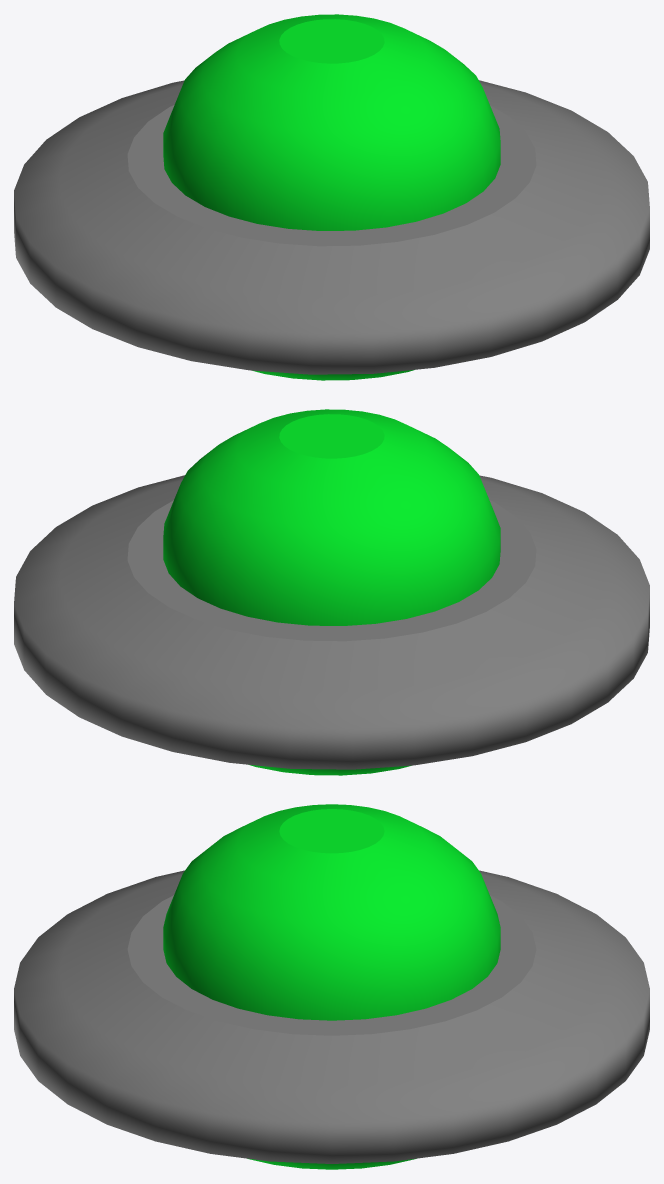
Rendered from UFOblend.fbx_Collection.fbx.
3 views of the same model, one above another, from view 1: azimuth 30°, elevation 25°; view 2: azimuth 150°, elevation 25°; view 3: azimuth 270°, elevation 25° (orthographic).
Visible parts, largest first — view 1: Cylinder; view 2: Cylinder; view 3: Cylinder.
Boxes of the visible parts, x1,y1,x2,y2 form: Cylinder: (14, 14, 649, 380); Cylinder: (14, 409, 649, 775); Cylinder: (14, 804, 649, 1169).
Size of the model in its own units: 1231 by 640 by 1231.
